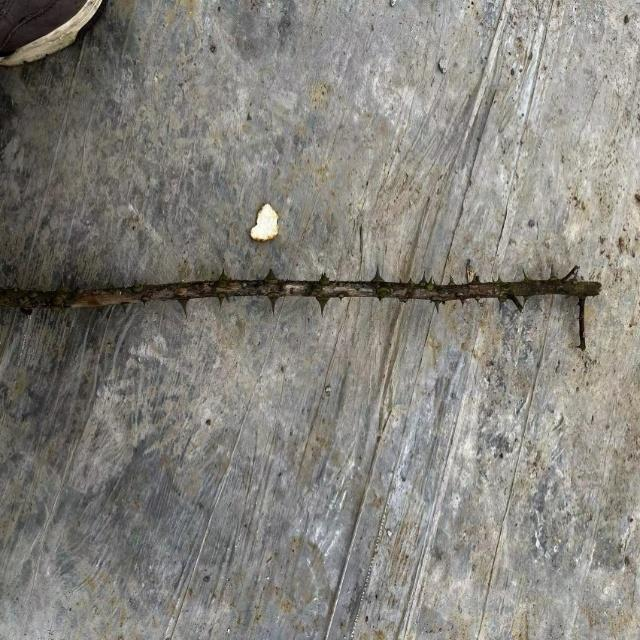branch: (0, 277, 603, 312)
